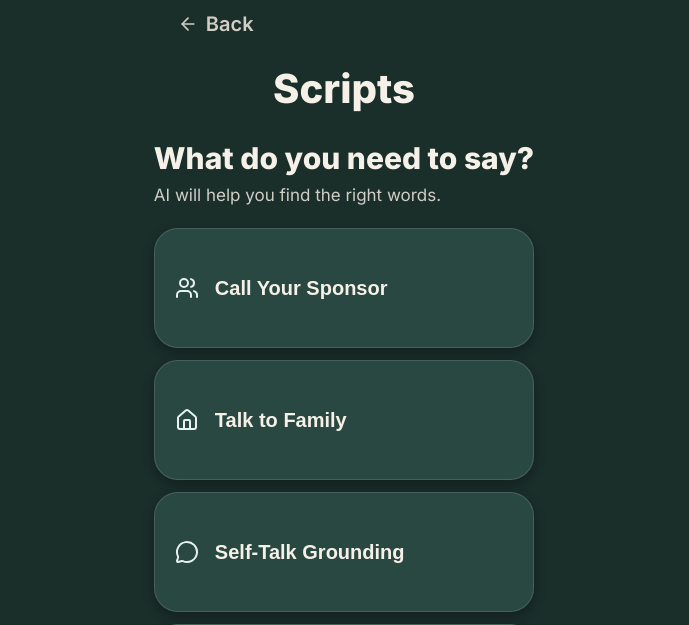
Test: Emergency Scripts › shows context tags after selecting a script type
The width and height of the screenshot is (689, 625).
Click the button "Call Your Sponsor": (344, 288) [154,228,534,348]
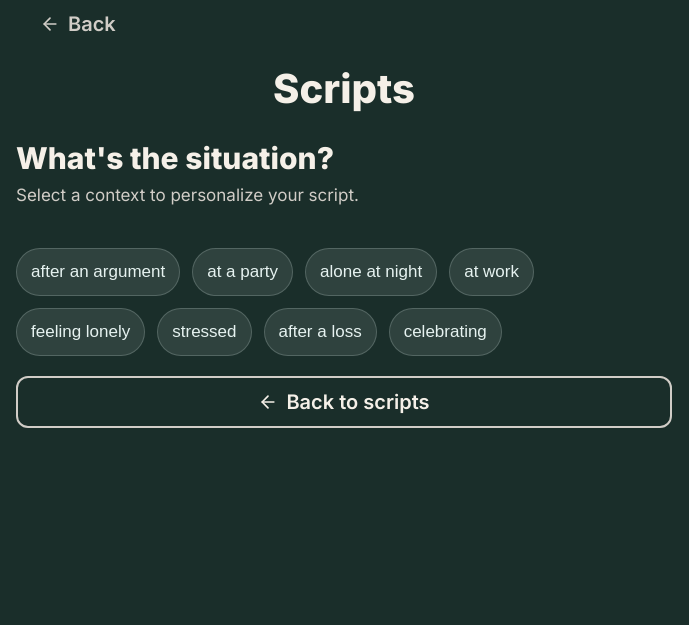
Now the heading "What's the situation?" is shown, box [16,140,334,176]
Now the button "after an argument" is shown, box [16,248,180,296]
